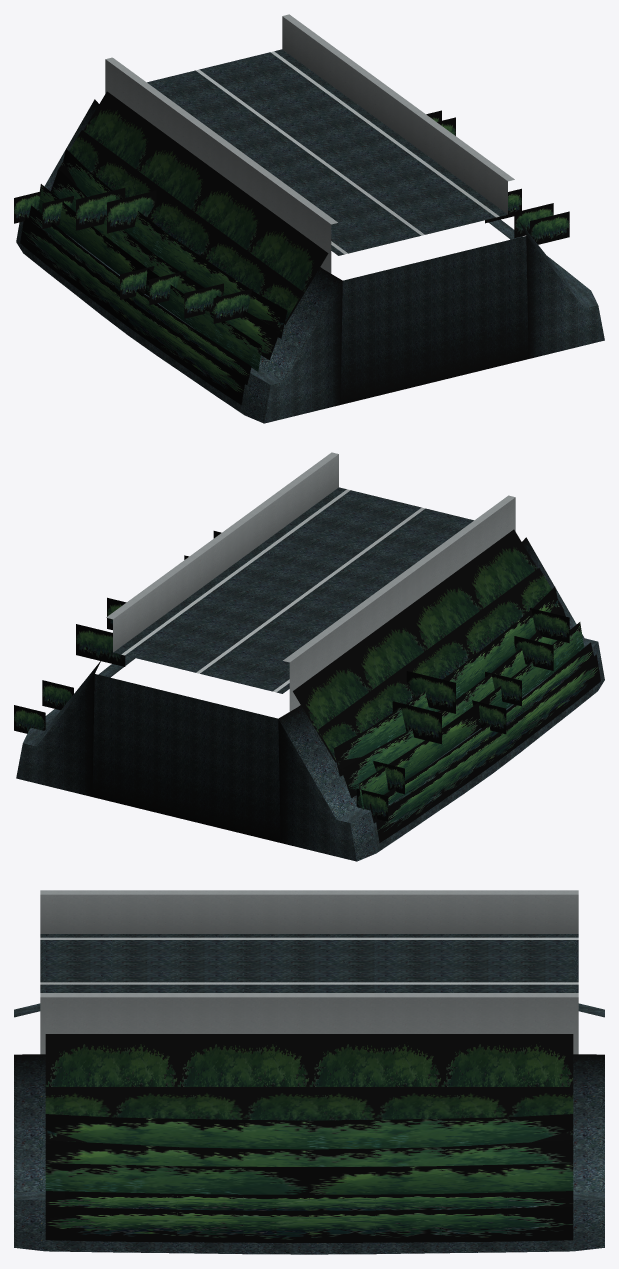
File: K_KOUSOKU.glb
3 views of the same model, one above another, from view 1: azimuth 30°, elevation 25°; view 2: azimuth 150°, elevation 25°; view 3: azimuth 270°, elevation 25° (orthographic). The views are drawn at different scales.
Parts seen in each view (by area): view 1: obj14, bone6, bone2, bone4, bone0; view 2: obj14, bone2, bone0, bone6, bone4; view 3: obj14.
Part boxes in pixels (x1=…): obj14: x1=16, y1=14, x2=604, y2=423; bone6: x1=184, y1=203, x2=569, y2=323; bone2: x1=76, y1=110, x2=455, y2=233; bone4: x1=120, y1=188, x2=521, y2=305; bone0: x1=14, y1=191, x2=73, y2=228; obj14: x1=16, y1=452, x2=604, y2=861; bone2: x1=76, y1=597, x2=455, y2=744; bone0: x1=14, y1=680, x2=404, y2=821; bone6: x1=184, y1=531, x2=569, y2=670; bone4: x1=472, y1=671, x2=521, y2=734; obj14: x1=14, y1=890, x2=604, y2=1254.
Size of the model in its own units: 101 by 42.82 by 112.
Materials: 8 (8 with a texture image).
